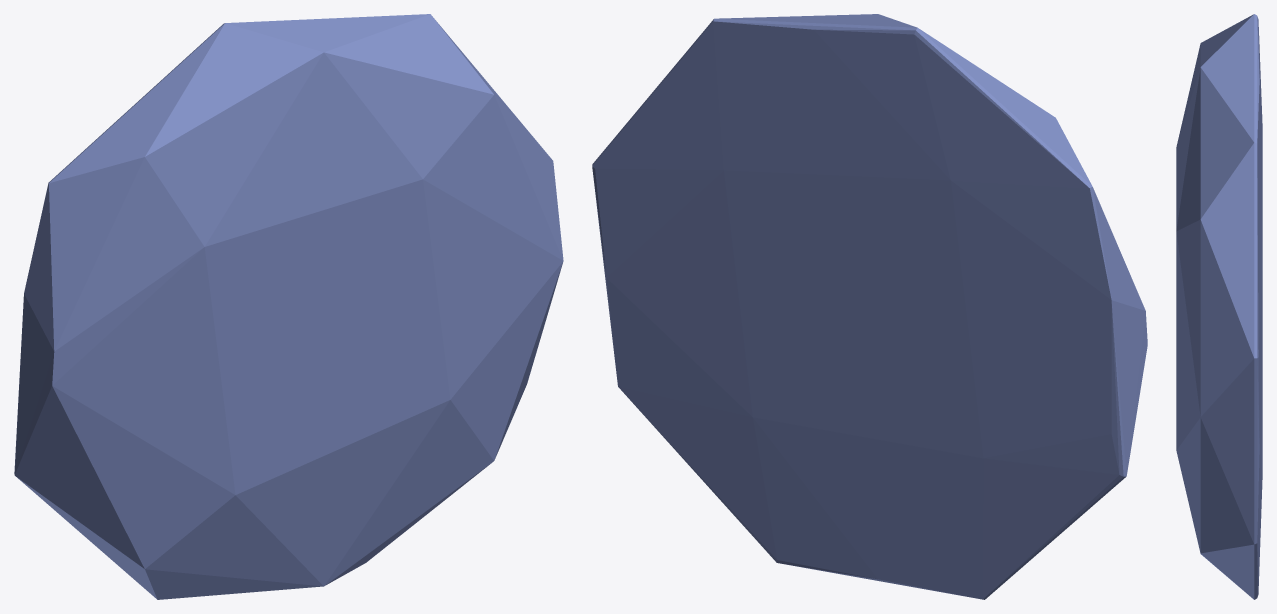
File: consumable_oil_seal_large_e01.glb
3 renders of one model, left to right at view 1: azimuth 30°, elevation 25°; view 2: azimuth 150°, elevation 25°; view 3: azimuth 270°, elevation 25°, orthographic. The views are drawn at different scales.
Parts seen in each view (by area): view 1: geometry_0; view 2: geometry_0; view 3: geometry_0.
Boxes of the visible parts, bbox=[...] form: geometry_0: bbox=[14, 14, 563, 599]; geometry_0: bbox=[592, 14, 1147, 599]; geometry_0: bbox=[1176, 14, 1262, 599].
Bounding box in the file's own units: 0.4556 × 0.464 × 0.0693.
